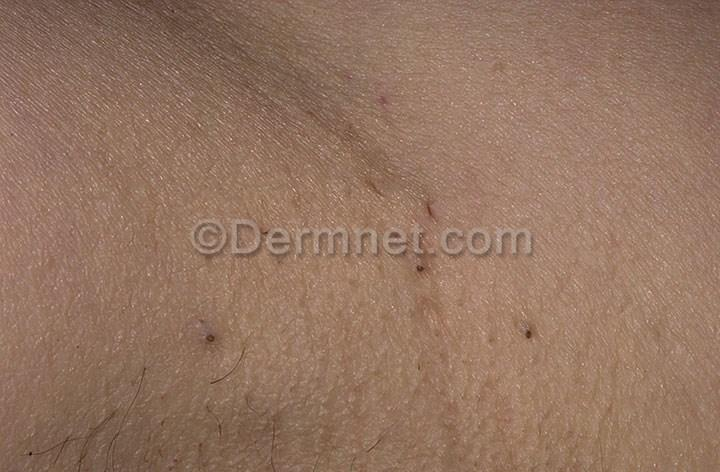Acne: (502, 312, 566, 366), (386, 249, 461, 284), (186, 318, 232, 355)
